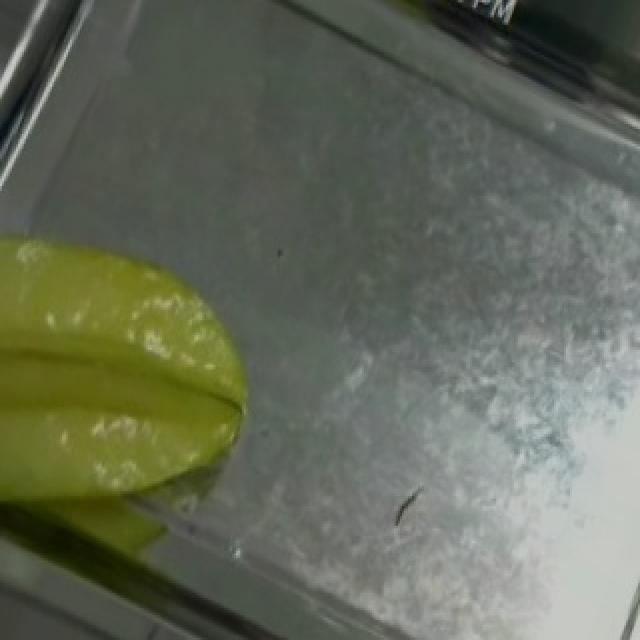fruit: (0, 191, 316, 576)
